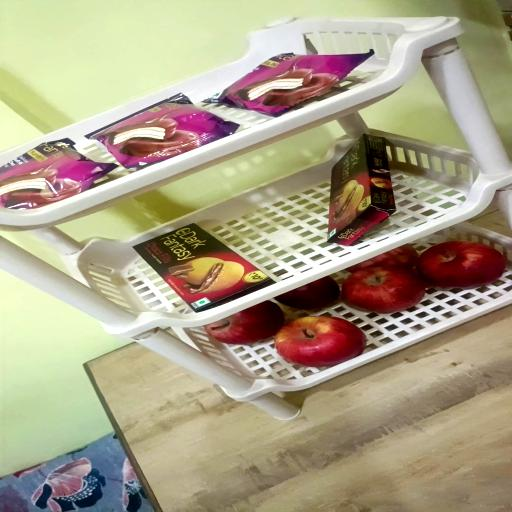Apple: (274, 316, 366, 368), (416, 243, 505, 290), (342, 268, 426, 314), (205, 302, 286, 345), (276, 278, 340, 310), (347, 244, 418, 271)
Choco Fills: (136, 224, 277, 314), (328, 136, 395, 248)
Choco Pie: (84, 92, 238, 168), (206, 52, 374, 116), (0, 140, 117, 212)
